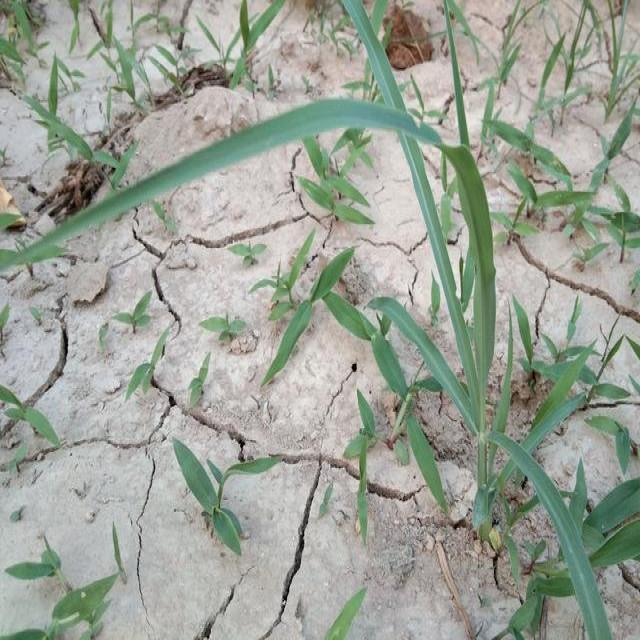weed: (14, 253, 640, 640), (30, 83, 640, 229), (59, 16, 284, 102)
